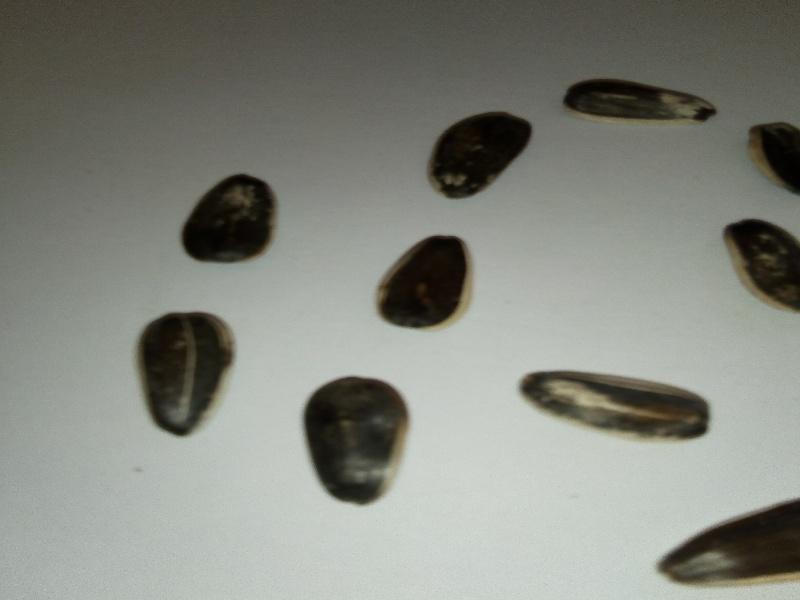girasol: (294, 371, 426, 516), (505, 361, 718, 450), (125, 296, 243, 451), (360, 226, 481, 335), (559, 69, 730, 135)
